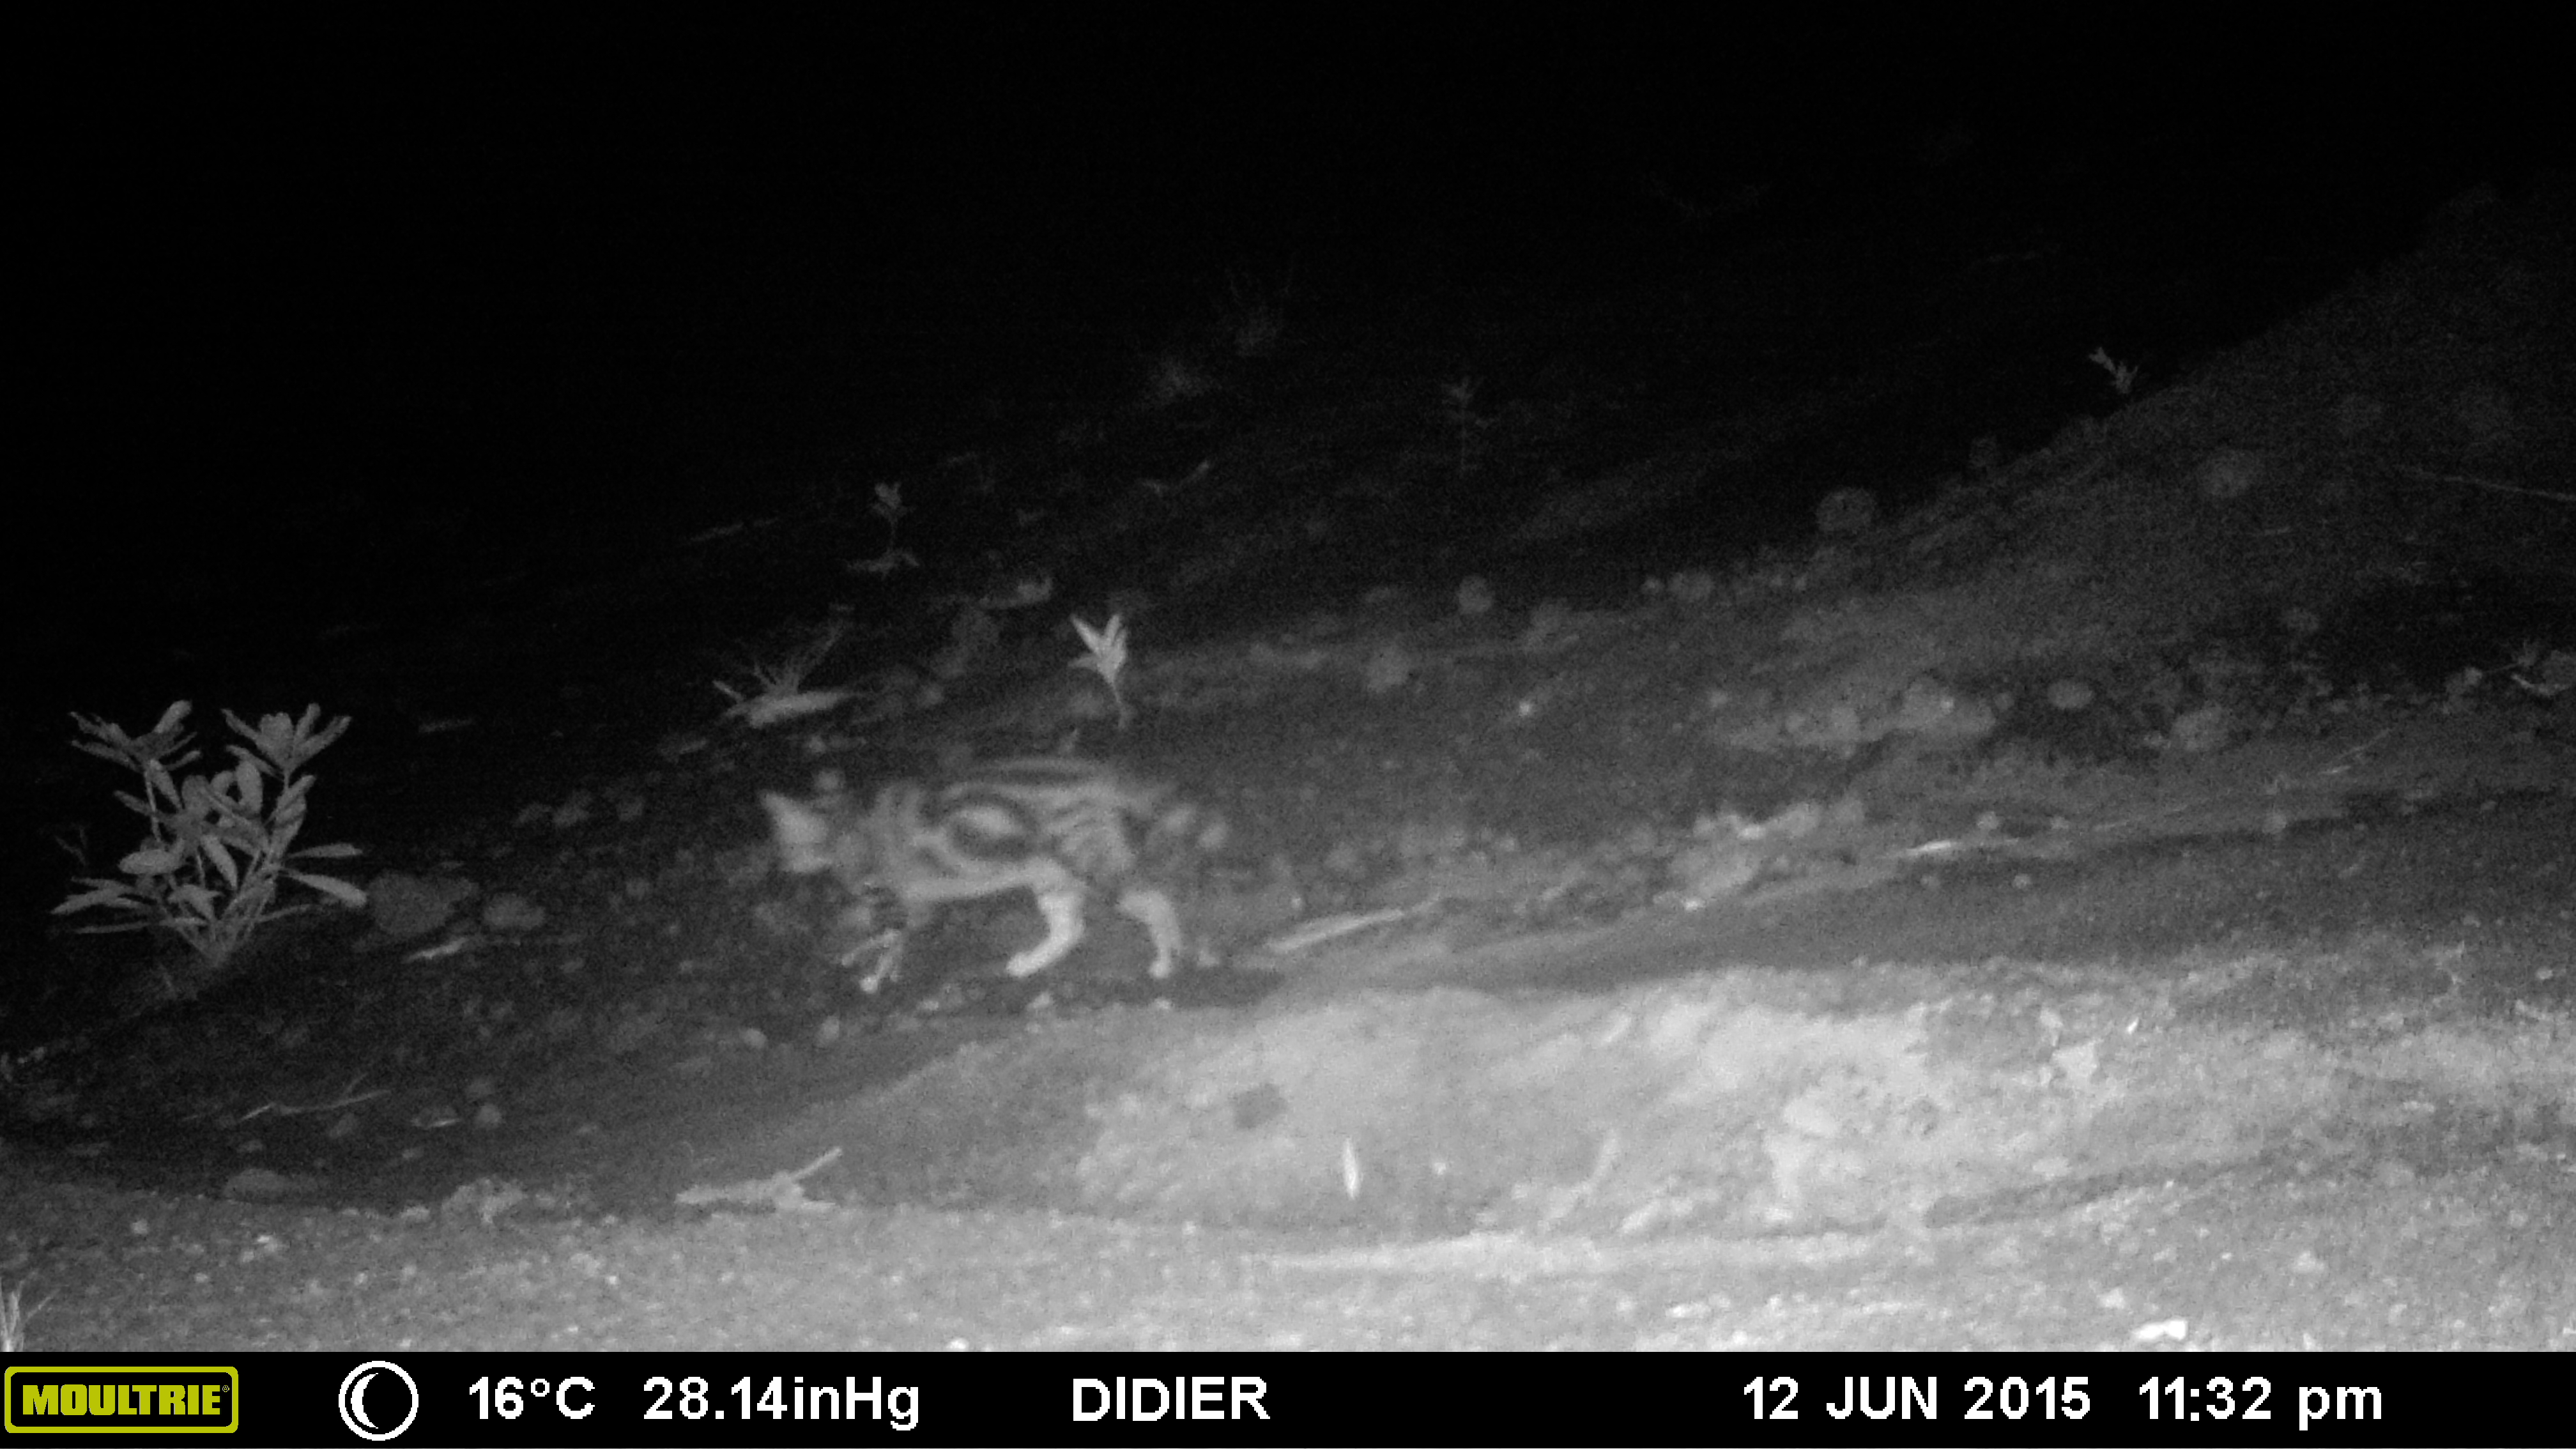cat: (747, 759, 1283, 994)
